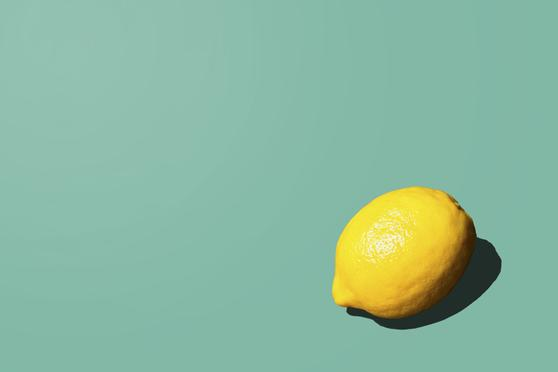lemon: (326, 180, 480, 339)
